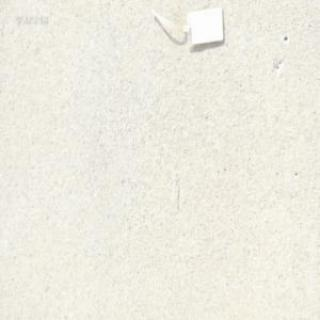LuggageTagtrack_idkeyframe: (146, 3, 224, 51)
